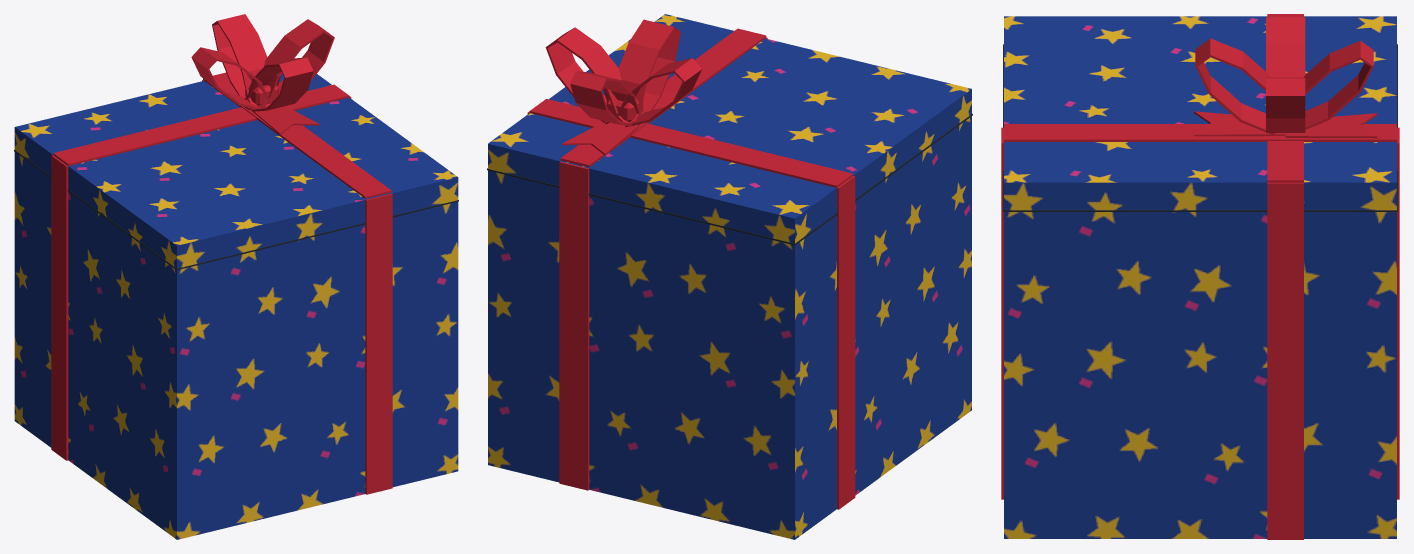
The model's file is party_gift_stars.glb.
3 views of the same model, side by side, from view 1: azimuth 30°, elevation 25°; view 2: azimuth 150°, elevation 25°; view 3: azimuth 270°, elevation 25° (orthographic). The views are drawn at different scales.
Parts seen in each view (by area): view 1: party_gift_stars_body; view 2: party_gift_stars_body; view 3: party_gift_stars_body.
Part boxes in pixels (x1,y1,x2,y2): party_gift_stars_body: [14, 14, 458, 539]; party_gift_stars_body: [487, 14, 972, 539]; party_gift_stars_body: [1001, 14, 1399, 539].
Bounding box in the file's own units: 0.304 × 0.3748 × 0.304.
Materials: 3 (3 with a texture image).
